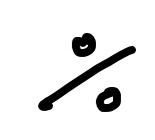div: (38, 33, 136, 113)
